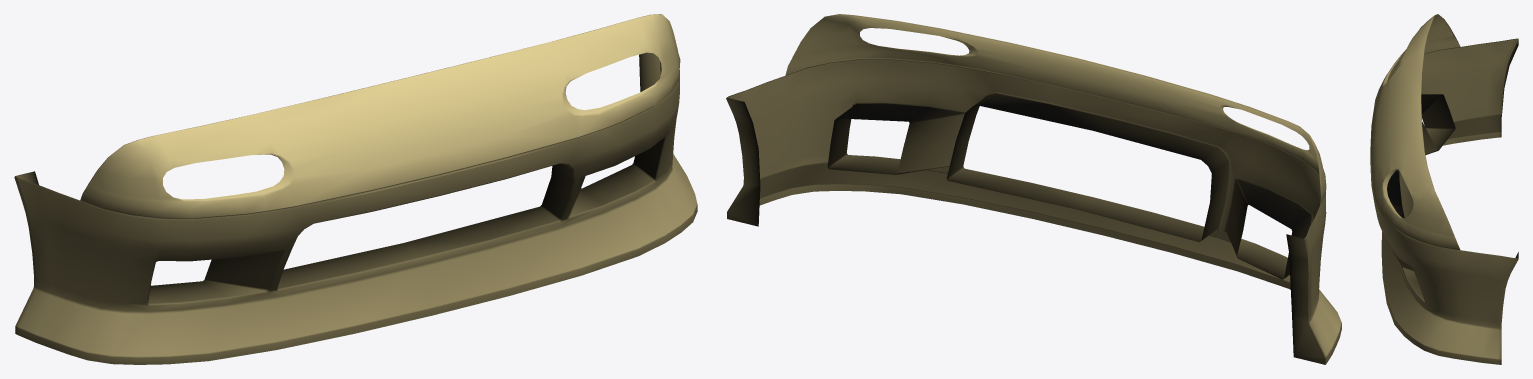
The model's file is MX5_FB02_Duco.fbx.
3 views of the same model, side by side, from view 1: azimuth 30°, elevation 25°; view 2: azimuth 150°, elevation 25°; view 3: azimuth 270°, elevation 25° (orthographic). The views are drawn at different scales.
Visible parts, largest first — view 1: MX5_FB02_Duco; view 2: MX5_FB02_Duco; view 3: MX5_FB02_Duco.
Part boxes in pixels (bbox=[...]): MX5_FB02_Duco: bbox=[14, 14, 697, 364]; MX5_FB02_Duco: bbox=[726, 14, 1341, 364]; MX5_FB02_Duco: bbox=[1370, 14, 1518, 364].
Bounding box in the file's own units: 162 × 50.59 × 44.65.
